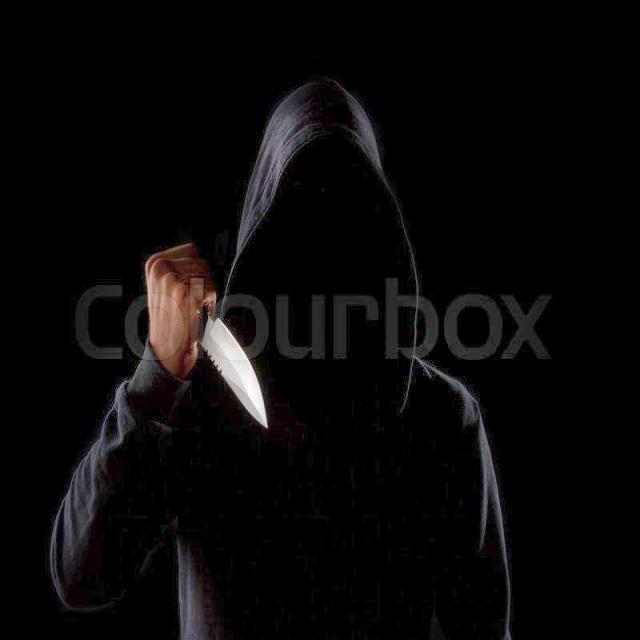knife: (203, 314, 269, 428)
